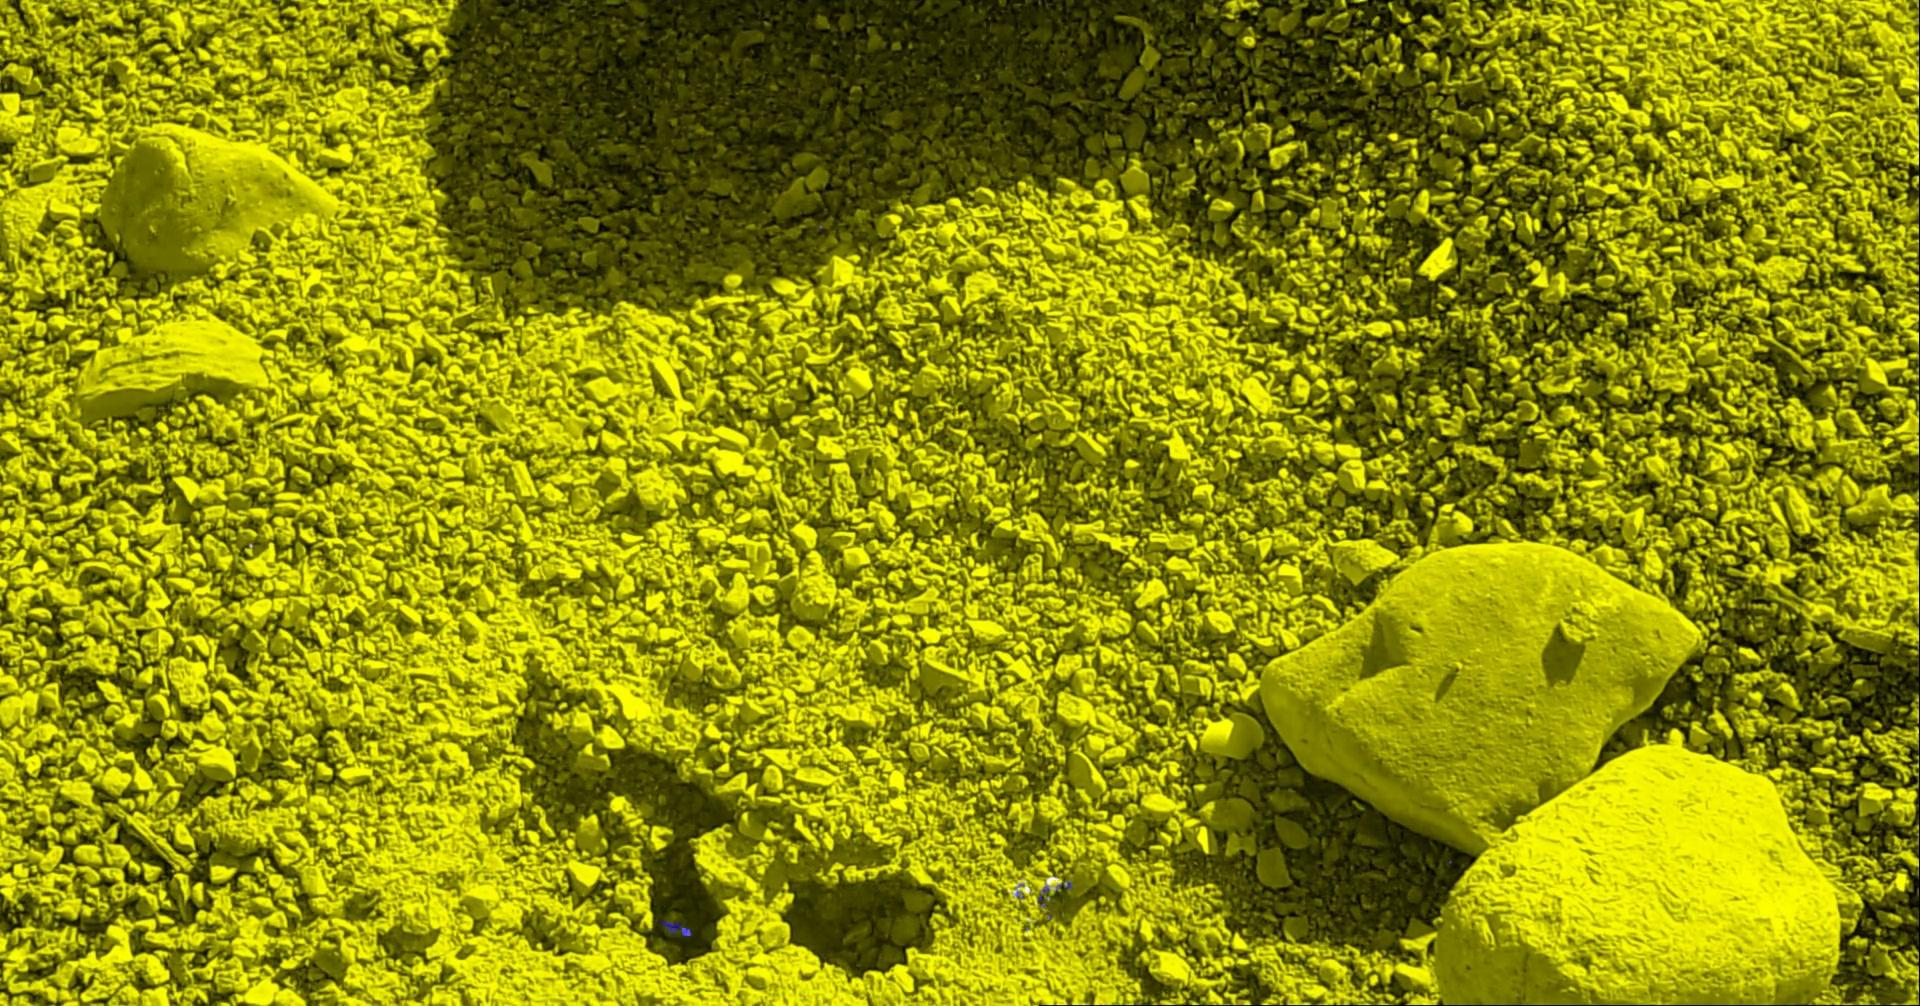ant: (660, 920, 693, 936)
